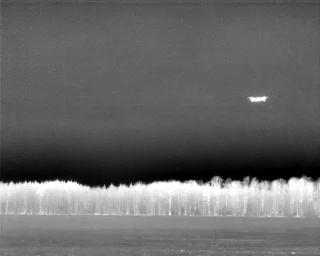DRONE: (245, 90, 271, 107)
